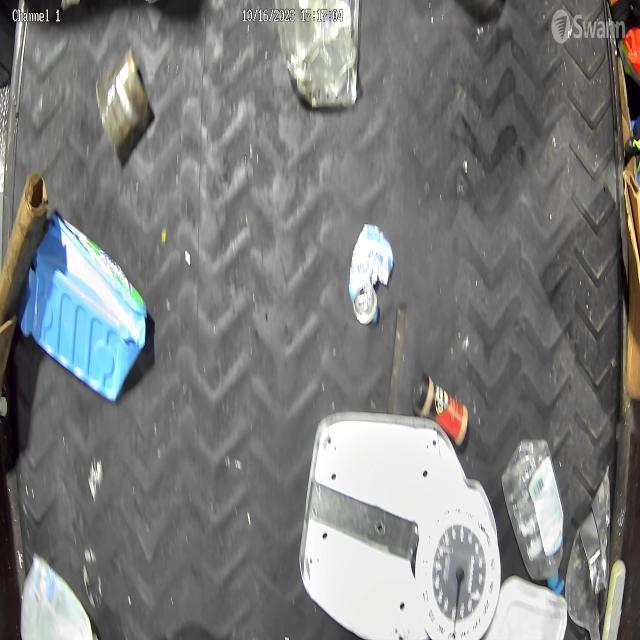can: (92, 50, 160, 160), (342, 218, 402, 332)
milk_jug: (14, 553, 102, 640)
non_white_jug: (22, 209, 148, 409)
plastic_bottle: (501, 428, 575, 598)
